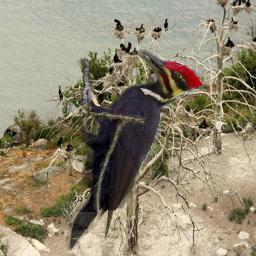Woodpecker: (66, 50, 205, 251)
